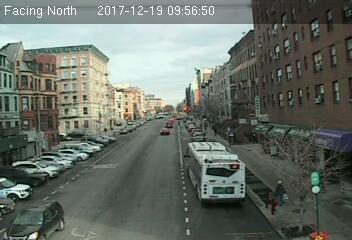bus: (185, 141, 245, 206)
car: (3, 197, 69, 240)
